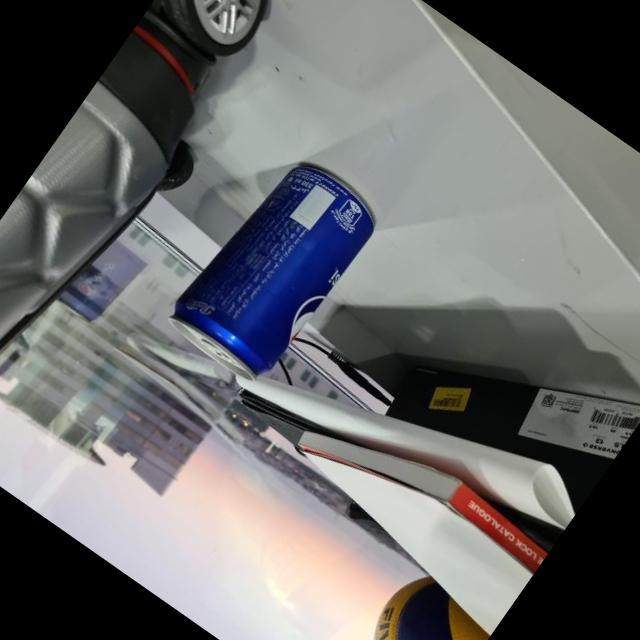Kaleng: (159, 142, 388, 395)
